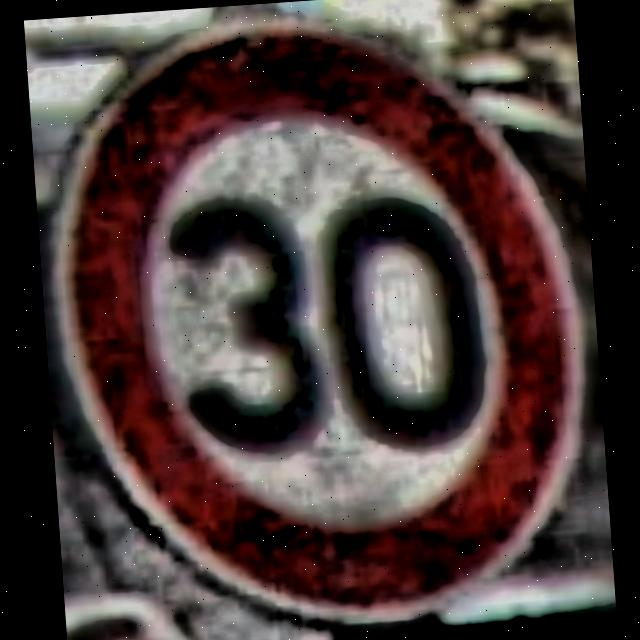speed_30: (48, 2, 596, 634)
